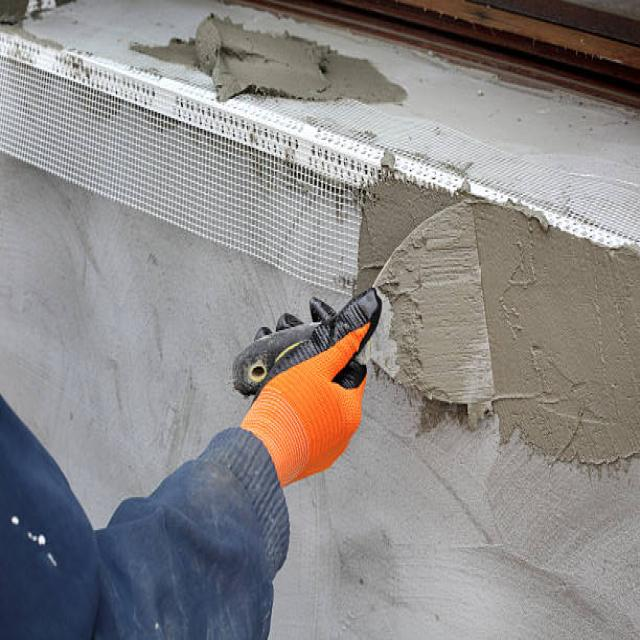gloves: (238, 282, 382, 488)
